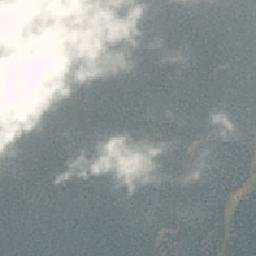cloud: (1, 1, 194, 204)
debris: (223, 187, 250, 251)
